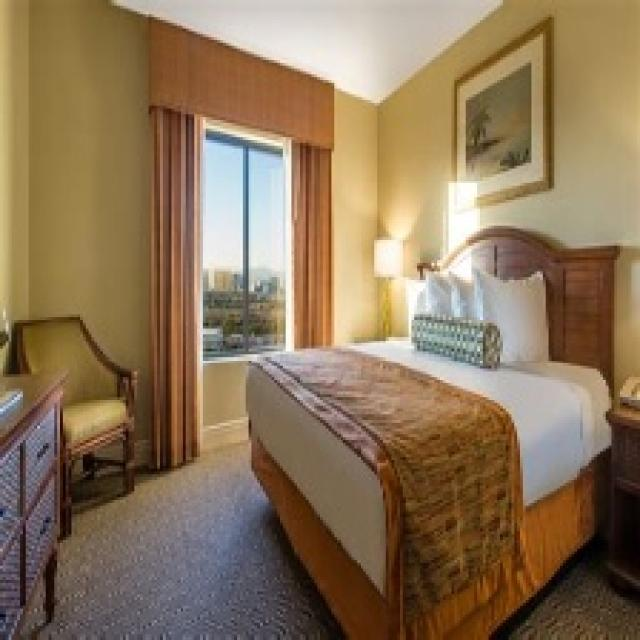Bed: (243, 223, 620, 637)
